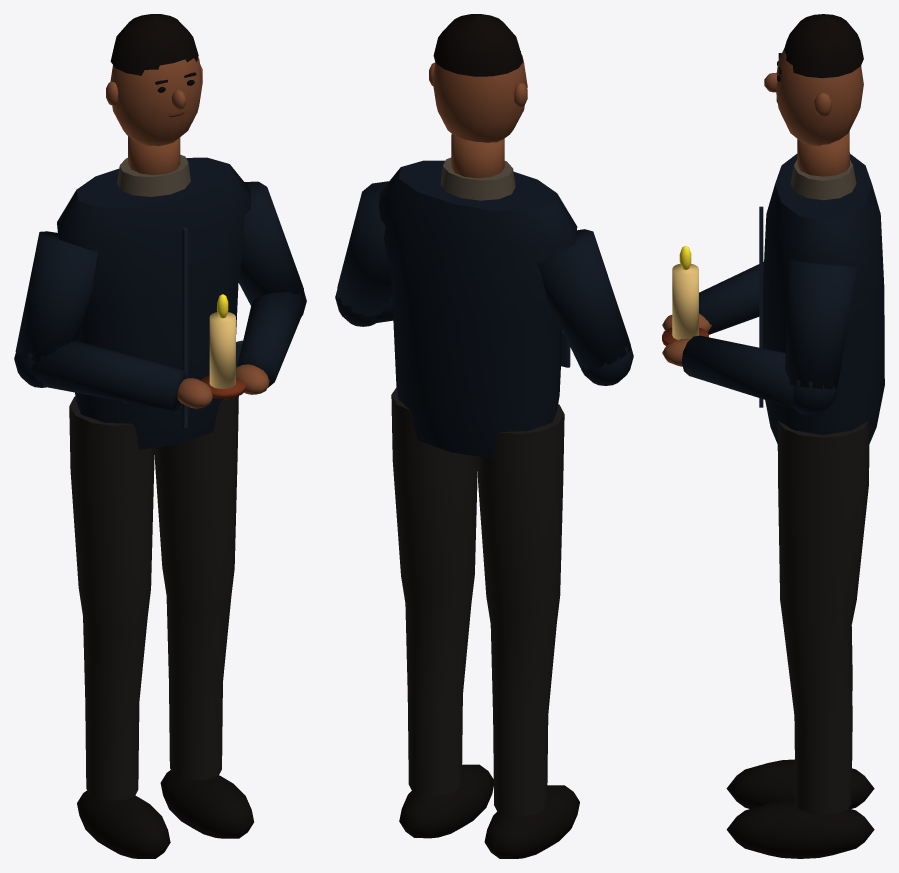
The model's file is visitante_veladora.obj.
3 views of the same model, side by side, from view 1: azimuth 30°, elevation 25°; view 2: azimuth 150°, elevation 25°; view 3: azimuth 270°, elevation 25° (orthographic). The views are drawn at different scales.
Visible parts, largest first — view 1: visitante_veladora; view 2: visitante_veladora; view 3: visitante_veladora.
Part boxes in pixels (left/top/right/bottom): visitante_veladora: left=14, top=14, right=306, bottom=858; visitante_veladora: left=335, top=14, right=633, bottom=858; visitante_veladora: left=662, top=14, right=884, bottom=858.
Size of the model in its own units: 0.648 by 1.77 by 0.436.
